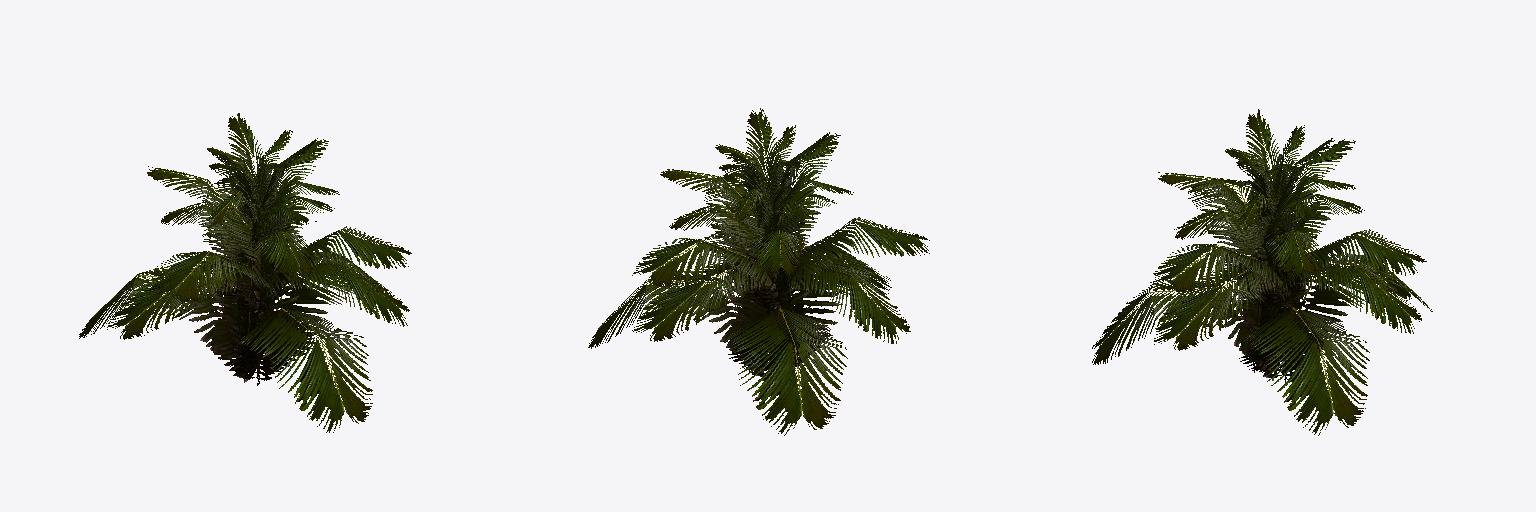
The picture shows the model from 3 angles: view 1: azimuth 30°, elevation 25°; view 2: azimuth 150°, elevation 25°; view 3: azimuth 270°, elevation 25°; orthographic projection.
Parts seen in each view (by area): view 1: Shrub_Untitled.001; view 2: Shrub_Untitled.001; view 3: Shrub_Untitled.001.
Boxes of the visible parts, x1,y1,x2,y2 form: Shrub_Untitled.001: [79, 113, 411, 432]; Shrub_Untitled.001: [588, 108, 929, 435]; Shrub_Untitled.001: [1092, 109, 1432, 435].
Bounding box in the file's own units: 0.6081 × 0.4353 × 0.6152.
1 materials, 1 textured.